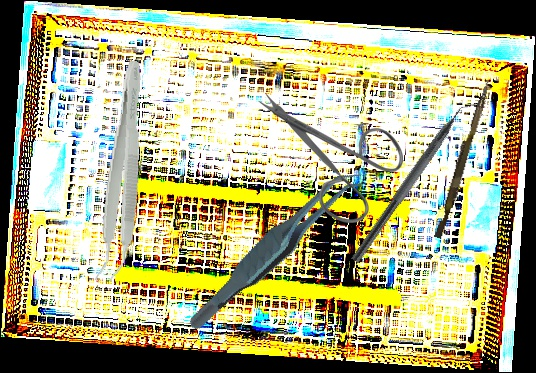Chopper: (350, 90, 484, 272)
Iris Scissors: (256, 92, 403, 223)
Pusher: (433, 78, 492, 240)
Tissue Forceps: (163, 165, 388, 332), (91, 59, 150, 283)
